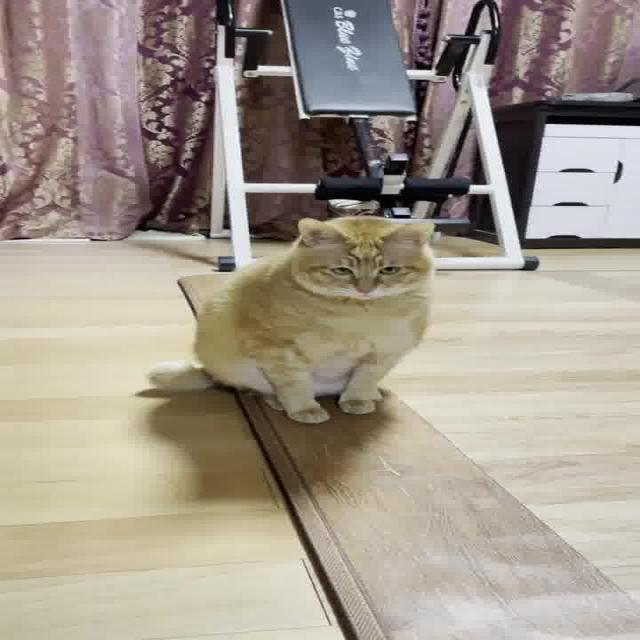cat: (139, 212, 449, 425)
